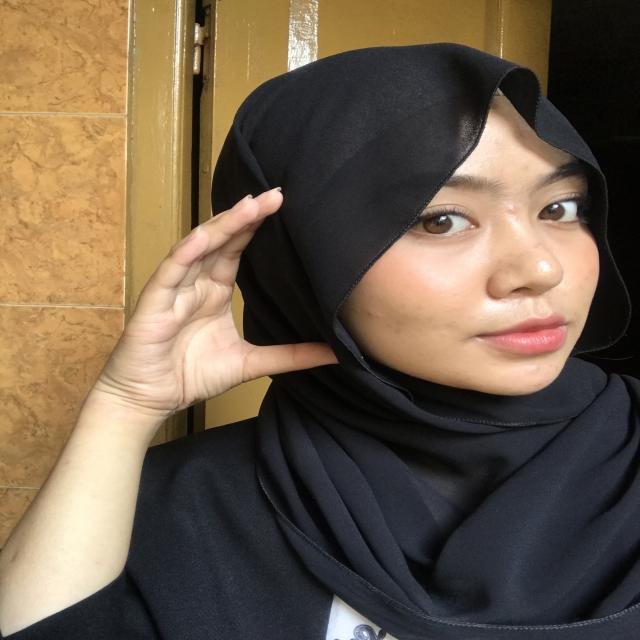mendengar: (121, 191, 336, 427)
